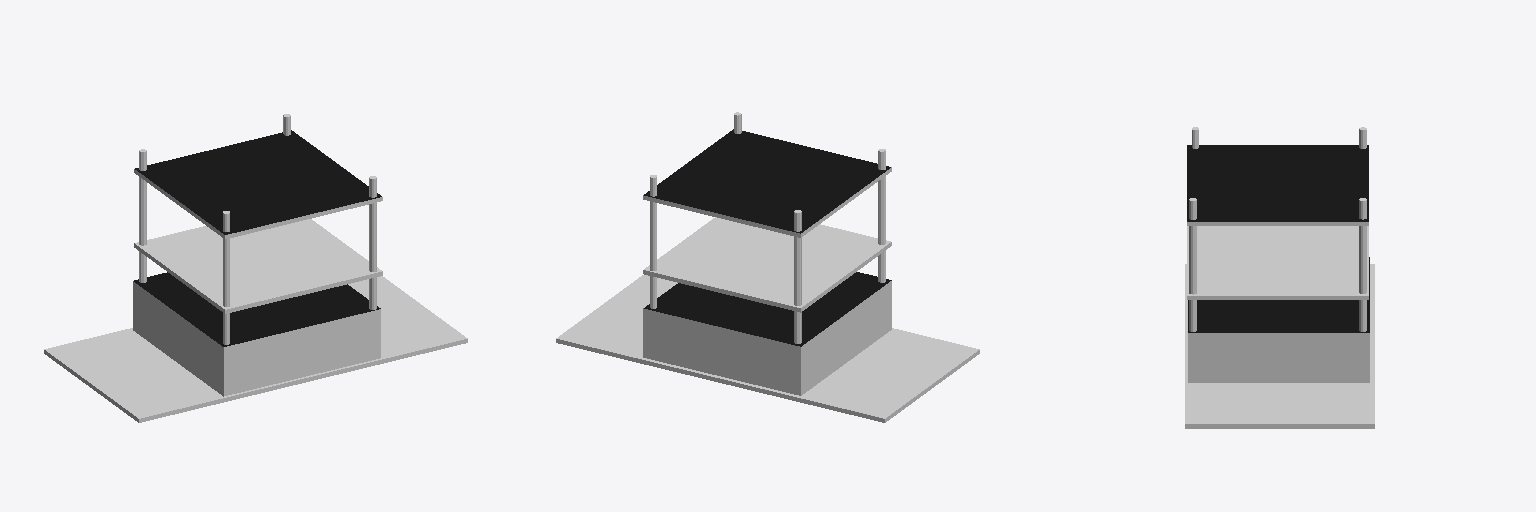
The model's file is KinectSupport.obj.
3 renders of one model, left to right at view 1: azimuth 30°, elevation 25°; view 2: azimuth 150°, elevation 25°; view 3: azimuth 270°, elevation 25°, orthographic.
Visible parts, largest first — view 1: group8 group7 group6 pCube8, group8 group7 group6 pCube10, pCube7 group8 group7 group6, group8 group7 group6 pCube9, group8 group7 group6 pCylinder15, group8 group7 group6 pCylinder13, group8 group7 group6 pCylinder14; view 2: group8 group7 group6 pCube8, group8 group7 group6 pCube10, pCube7 group8 group7 group6, group8 group7 group6 pCube9, group8 group7 group6 pCylinder13, group8 group7 group6 pCylinder14, group8 group7 group6 pCylinder12; view 3: group8 group7 group6 pCube8, group8 group7 group6 pCube10, group8 group7 group6 pCube9, pCube7 group8 group7 group6, group8 group7 group6 pCylinder15, group8 group7 group6 pCylinder12.
Part boxes in pixels (left/top/right/bottom): group8 group7 group6 pCube8: left=133, top=272, right=380, bottom=396; group8 group7 group6 pCube10: left=134, top=130, right=382, bottom=238; pCube7 group8 group7 group6: left=44, top=276, right=467, bottom=422; group8 group7 group6 pCube9: left=134, top=219, right=382, bottom=313; group8 group7 group6 pCylinder15: left=369, top=176, right=376, bottom=309; group8 group7 group6 pCylinder13: left=139, top=149, right=146, bottom=282; group8 group7 group6 pCylinder14: left=223, top=211, right=229, bottom=344; group8 group7 group6 pCube8: left=643, top=272, right=891, bottom=395; group8 group7 group6 pCube10: left=643, top=129, right=891, bottom=237; pCube7 group8 group7 group6: left=556, top=275, right=979, bottom=422; group8 group7 group6 pCube9: left=643, top=217, right=891, bottom=312; group8 group7 group6 pCylinder13: left=794, top=210, right=801, bottom=343; group8 group7 group6 pCylinder14: left=878, top=149, right=885, bottom=282; group8 group7 group6 pCylinder12: left=650, top=175, right=656, bottom=308; group8 group7 group6 pCube8: left=1188, top=257, right=1369, bottom=382; group8 group7 group6 pCube10: left=1187, top=145, right=1368, bottom=225; group8 group7 group6 pCube9: left=1187, top=226, right=1368, bottom=299; pCube7 group8 group7 group6: left=1185, top=264, right=1374, bottom=428; group8 group7 group6 pCylinder15: left=1189, top=198, right=1196, bottom=331; group8 group7 group6 pCylinder12: left=1359, top=198, right=1366, bottom=331.
Bounding box in the file's own units: 0.24 × 0.1287 × 0.12.